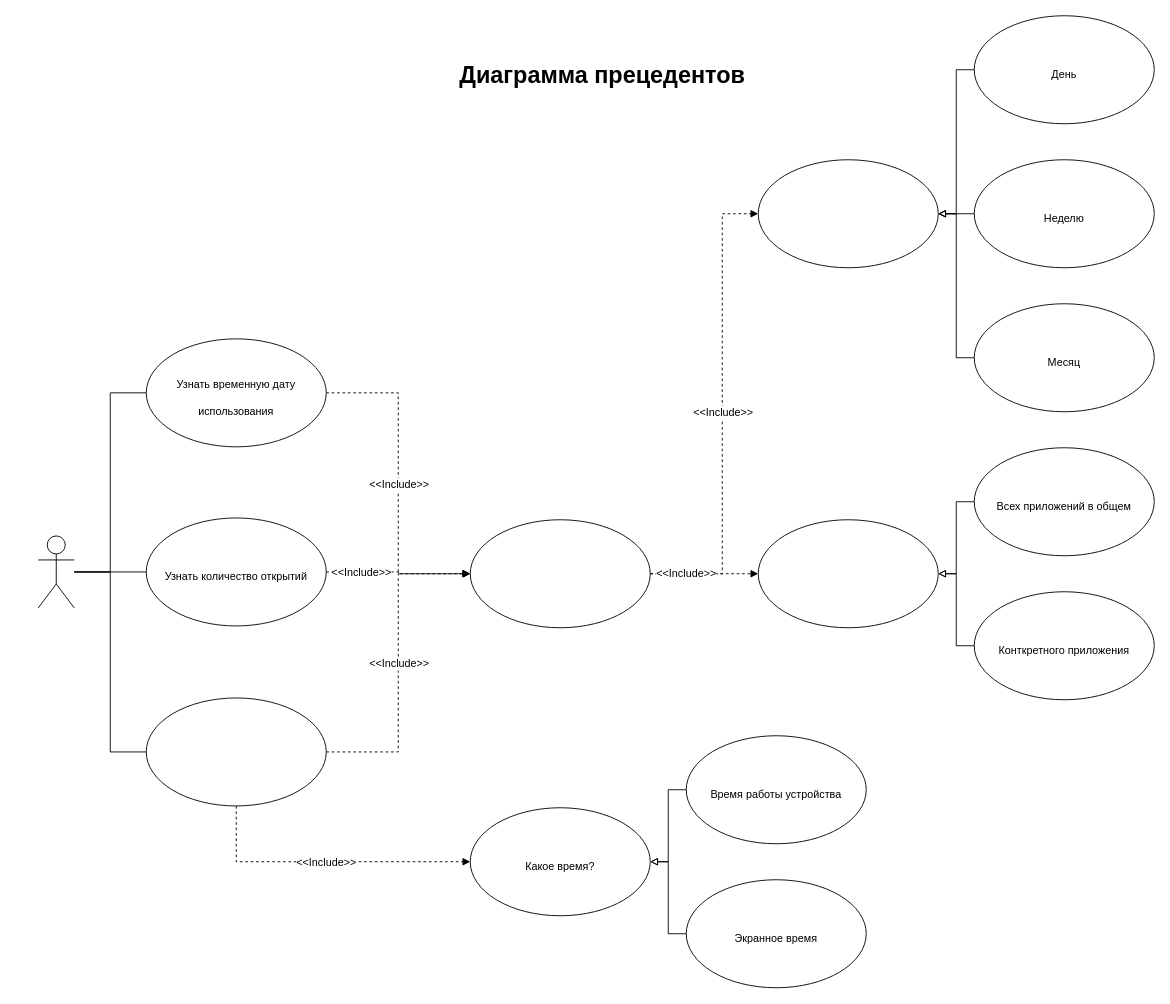
The diagram is 1170 pixels wide and 1004 high, and some of its shapes have lost their labels. The centre of each missing label's shape, as x and y in pixels:
За какой период?: (847,213)
Какого объекта?: (847,573)
Пользователь: (55,571)
Узнать время использования: (235,751)
